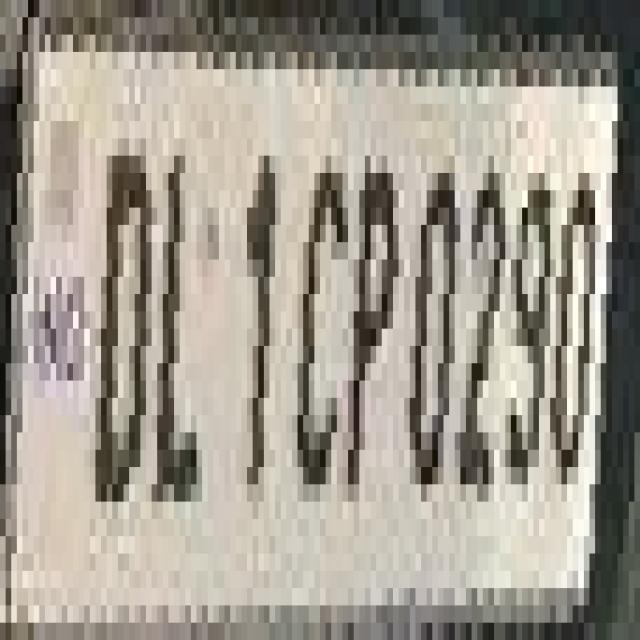license_plate: (11, 34, 640, 606)
